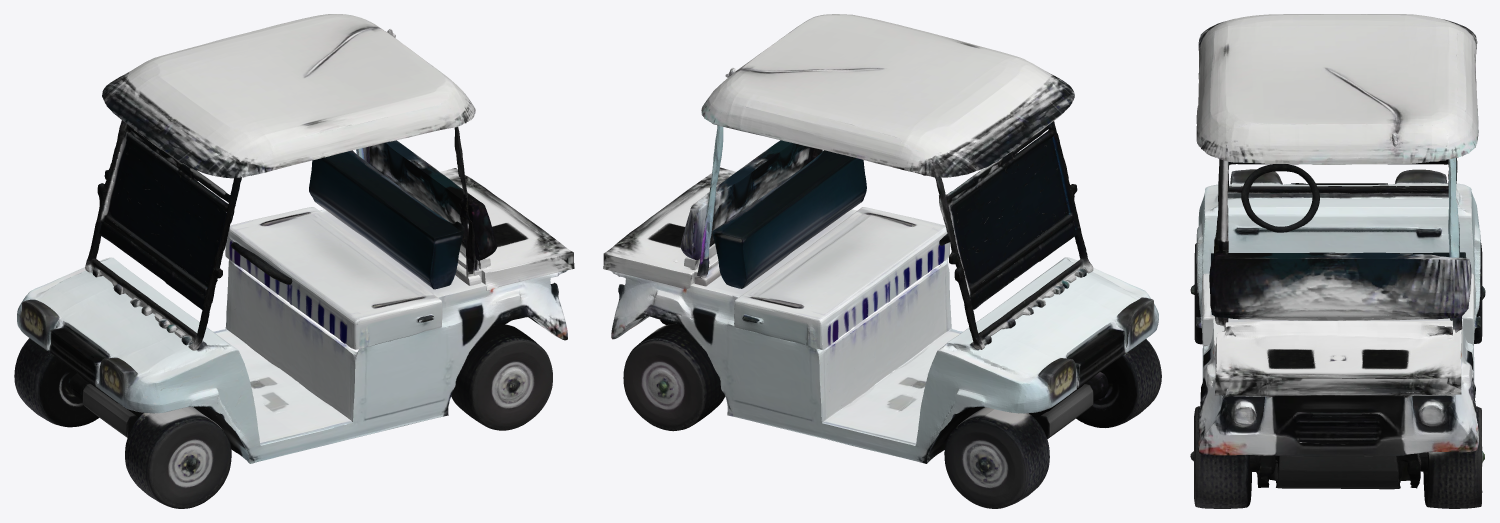
The picture shows the model from 3 angles, left to right: view 1: azimuth 30°, elevation 25°; view 2: azimuth 150°, elevation 25°; view 3: azimuth 270°, elevation 25°; orthographic projection. The views are drawn at different scales.
Visible parts, largest first — view 1: part_4, part_0, part_2, part_3, part_1, part_12, part_5, part_6, part_8, part_10, part_7; view 2: part_4, part_0, part_2, part_3, part_8, part_11, part_5, part_6, part_1, part_10; view 3: part_4, part_0, part_5, part_6, part_9, part_11, part_12, part_7, part_2, part_1, part_8.
Part boxes in pixels (left/top/right/bottom): part_4: left=85, top=14, right=480, bottom=350; part_0: left=17, top=209, right=567, bottom=463; part_2: left=225, top=207, right=442, bottom=349; part_3: left=309, top=150, right=464, bottom=289; part_1: left=125, top=406, right=231, bottom=508; part_12: left=451, top=323, right=552, bottom=430; part_5: left=440, top=168, right=574, bottom=291; part_6: left=362, top=140, right=497, bottom=260; part_8: left=14, top=338, right=99, bottom=427; part_10: left=68, top=373, right=138, bottom=437; part_7: left=231, top=242, right=292, bottom=284; part_4: left=694, top=14, right=1093, bottom=349; part_0: left=611, top=209, right=1158, bottom=463; part_2: left=734, top=207, right=949, bottom=349; part_3: left=712, top=150, right=866, bottom=288; part_8: left=944, top=407, right=1049, bottom=508; part_11: left=623, top=323, right=724, bottom=431; part_5: left=603, top=167, right=736, bottom=289; part_6: left=680, top=140, right=813, bottom=259; part_1: left=1076, top=339, right=1161, bottom=427; part_10: left=1034, top=372, right=1108, bottom=438; part_4: left=1196, top=14, right=1478, bottom=332; part_0: left=1196, top=169, right=1480, bottom=480; part_5: left=1212, top=320, right=1461, bottom=395; part_6: left=1209, top=252, right=1471, bottom=320; part_9: left=1250, top=452, right=1427, bottom=489; part_11: left=1423, top=406, right=1484, bottom=508; part_12: left=1190, top=406, right=1251, bottom=508; part_7: left=1241, top=164, right=1319, bottom=232; part_2: left=1196, top=273, right=1480, bottom=346; part_1: left=1190, top=243, right=1202, bottom=344; part_8: left=1474, top=242, right=1485, bottom=343.
Bounding box in the file's own units: 1 × 0.7417 × 0.5483.
Materials: 13 (13 with a texture image).
